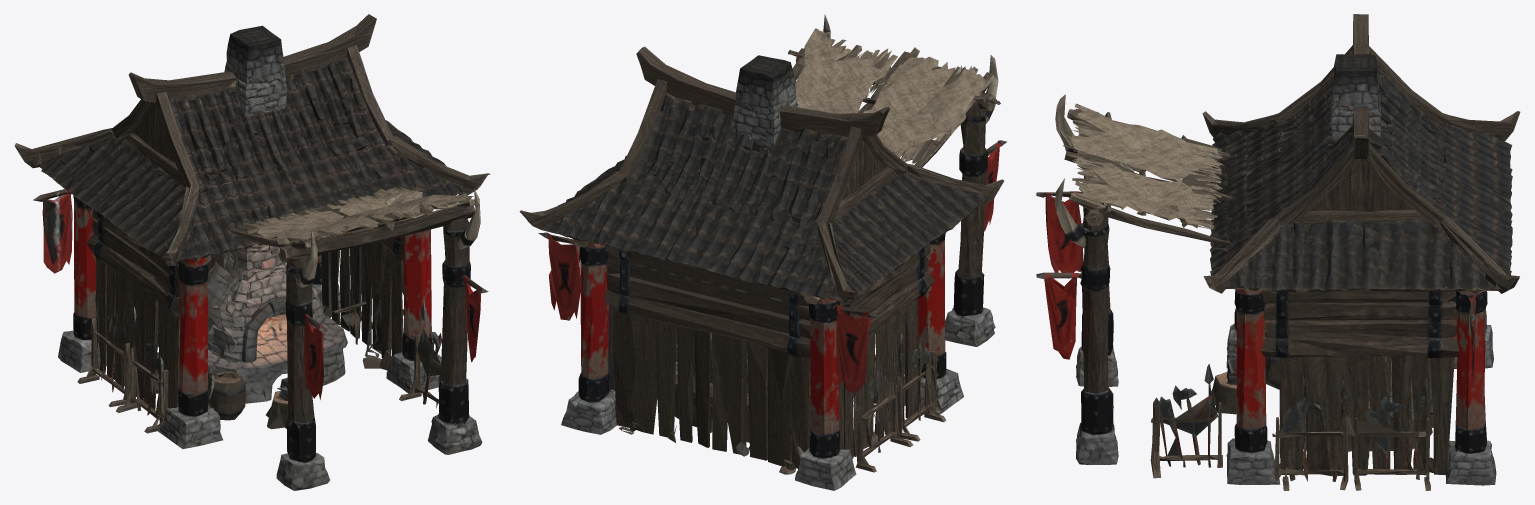
File: forge_smithy.glb
The picture shows the model from 3 angles, left to right: view 1: azimuth 30°, elevation 25°; view 2: azimuth 150°, elevation 25°; view 3: azimuth 270°, elevation 25°; orthographic projection. The views are drawn at different scales.
Visible parts, largest first — view 1: forge_smithy; view 2: forge_smithy; view 3: forge_smithy.
Part boxes in pixels (x1,y1,x2,y2): forge_smithy: [14, 14, 490, 490]; forge_smithy: [519, 14, 1007, 490]; forge_smithy: [1036, 14, 1520, 490].
Bounding box in the file's own units: 9.31 × 9 × 11.1.
Materials: 1 (1 with a texture image).
